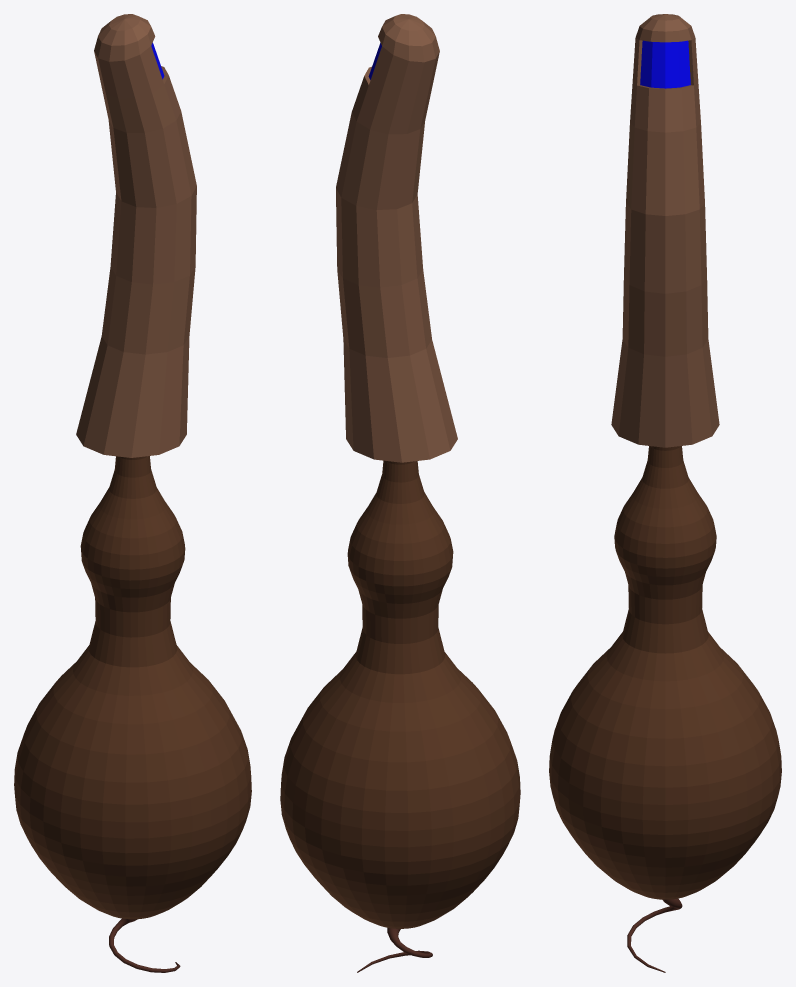
The model's file is Wand 649.glb.
The picture shows the model from 3 angles, left to right: view 1: azimuth 30°, elevation 25°; view 2: azimuth 150°, elevation 25°; view 3: azimuth 270°, elevation 25°; orthographic projection. The views are drawn at different scales.
Parts seen in each view (by area): view 1: GeneratedWand; view 2: GeneratedWand; view 3: GeneratedWand.
Boxes of the visible parts, x1=… form: GeneratedWand: x1=14, y1=14, x2=251, y2=972; GeneratedWand: x1=280, y1=14, x2=520, y2=972; GeneratedWand: x1=549, y1=14, x2=781, y2=972.
Size of the model in its own units: 0.123 by 0.5443 by 0.123.
